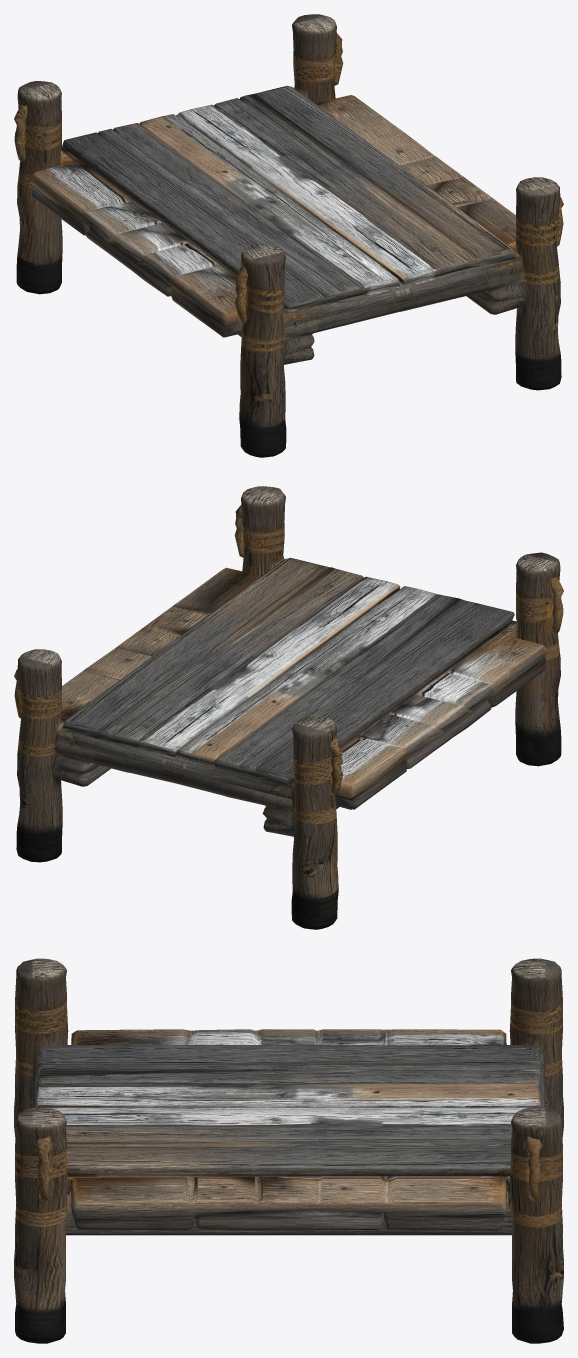
Rendered from prop_0812.glb.
3 views of the same model, one above another, from view 1: azimuth 30°, elevation 25°; view 2: azimuth 150°, elevation 25°; view 3: azimuth 270°, elevation 25° (orthographic). The views are drawn at different scales.
Visible parts, largest first — view 1: prop_0812_mesh; view 2: prop_0812_mesh; view 3: prop_0812_mesh.
Boxes of the visible parts, left/top/right/bottom form: prop_0812_mesh: left=14, top=14, right=563, bottom=457; prop_0812_mesh: left=14, top=486, right=563, bottom=929; prop_0812_mesh: left=14, top=958, right=563, bottom=1343.
Bounding box in the file's own units: 1.48 × 0.8336 × 1.91.
Materials: 1 (1 with a texture image).
